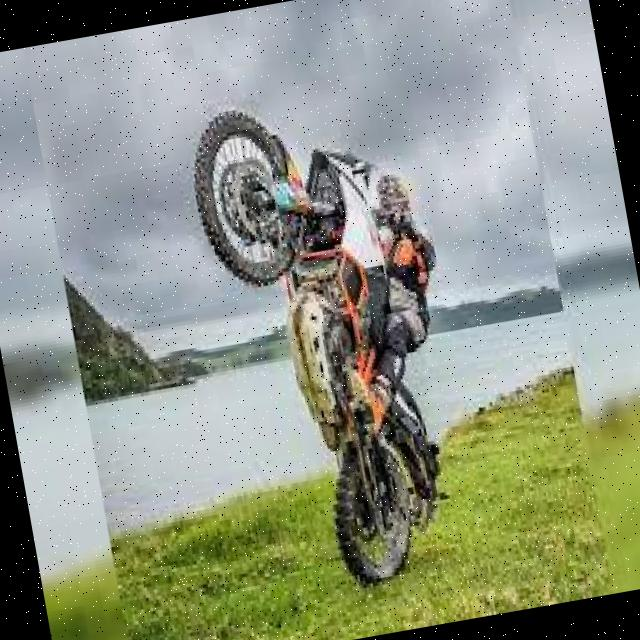Wheeling: (186, 81, 499, 613)
